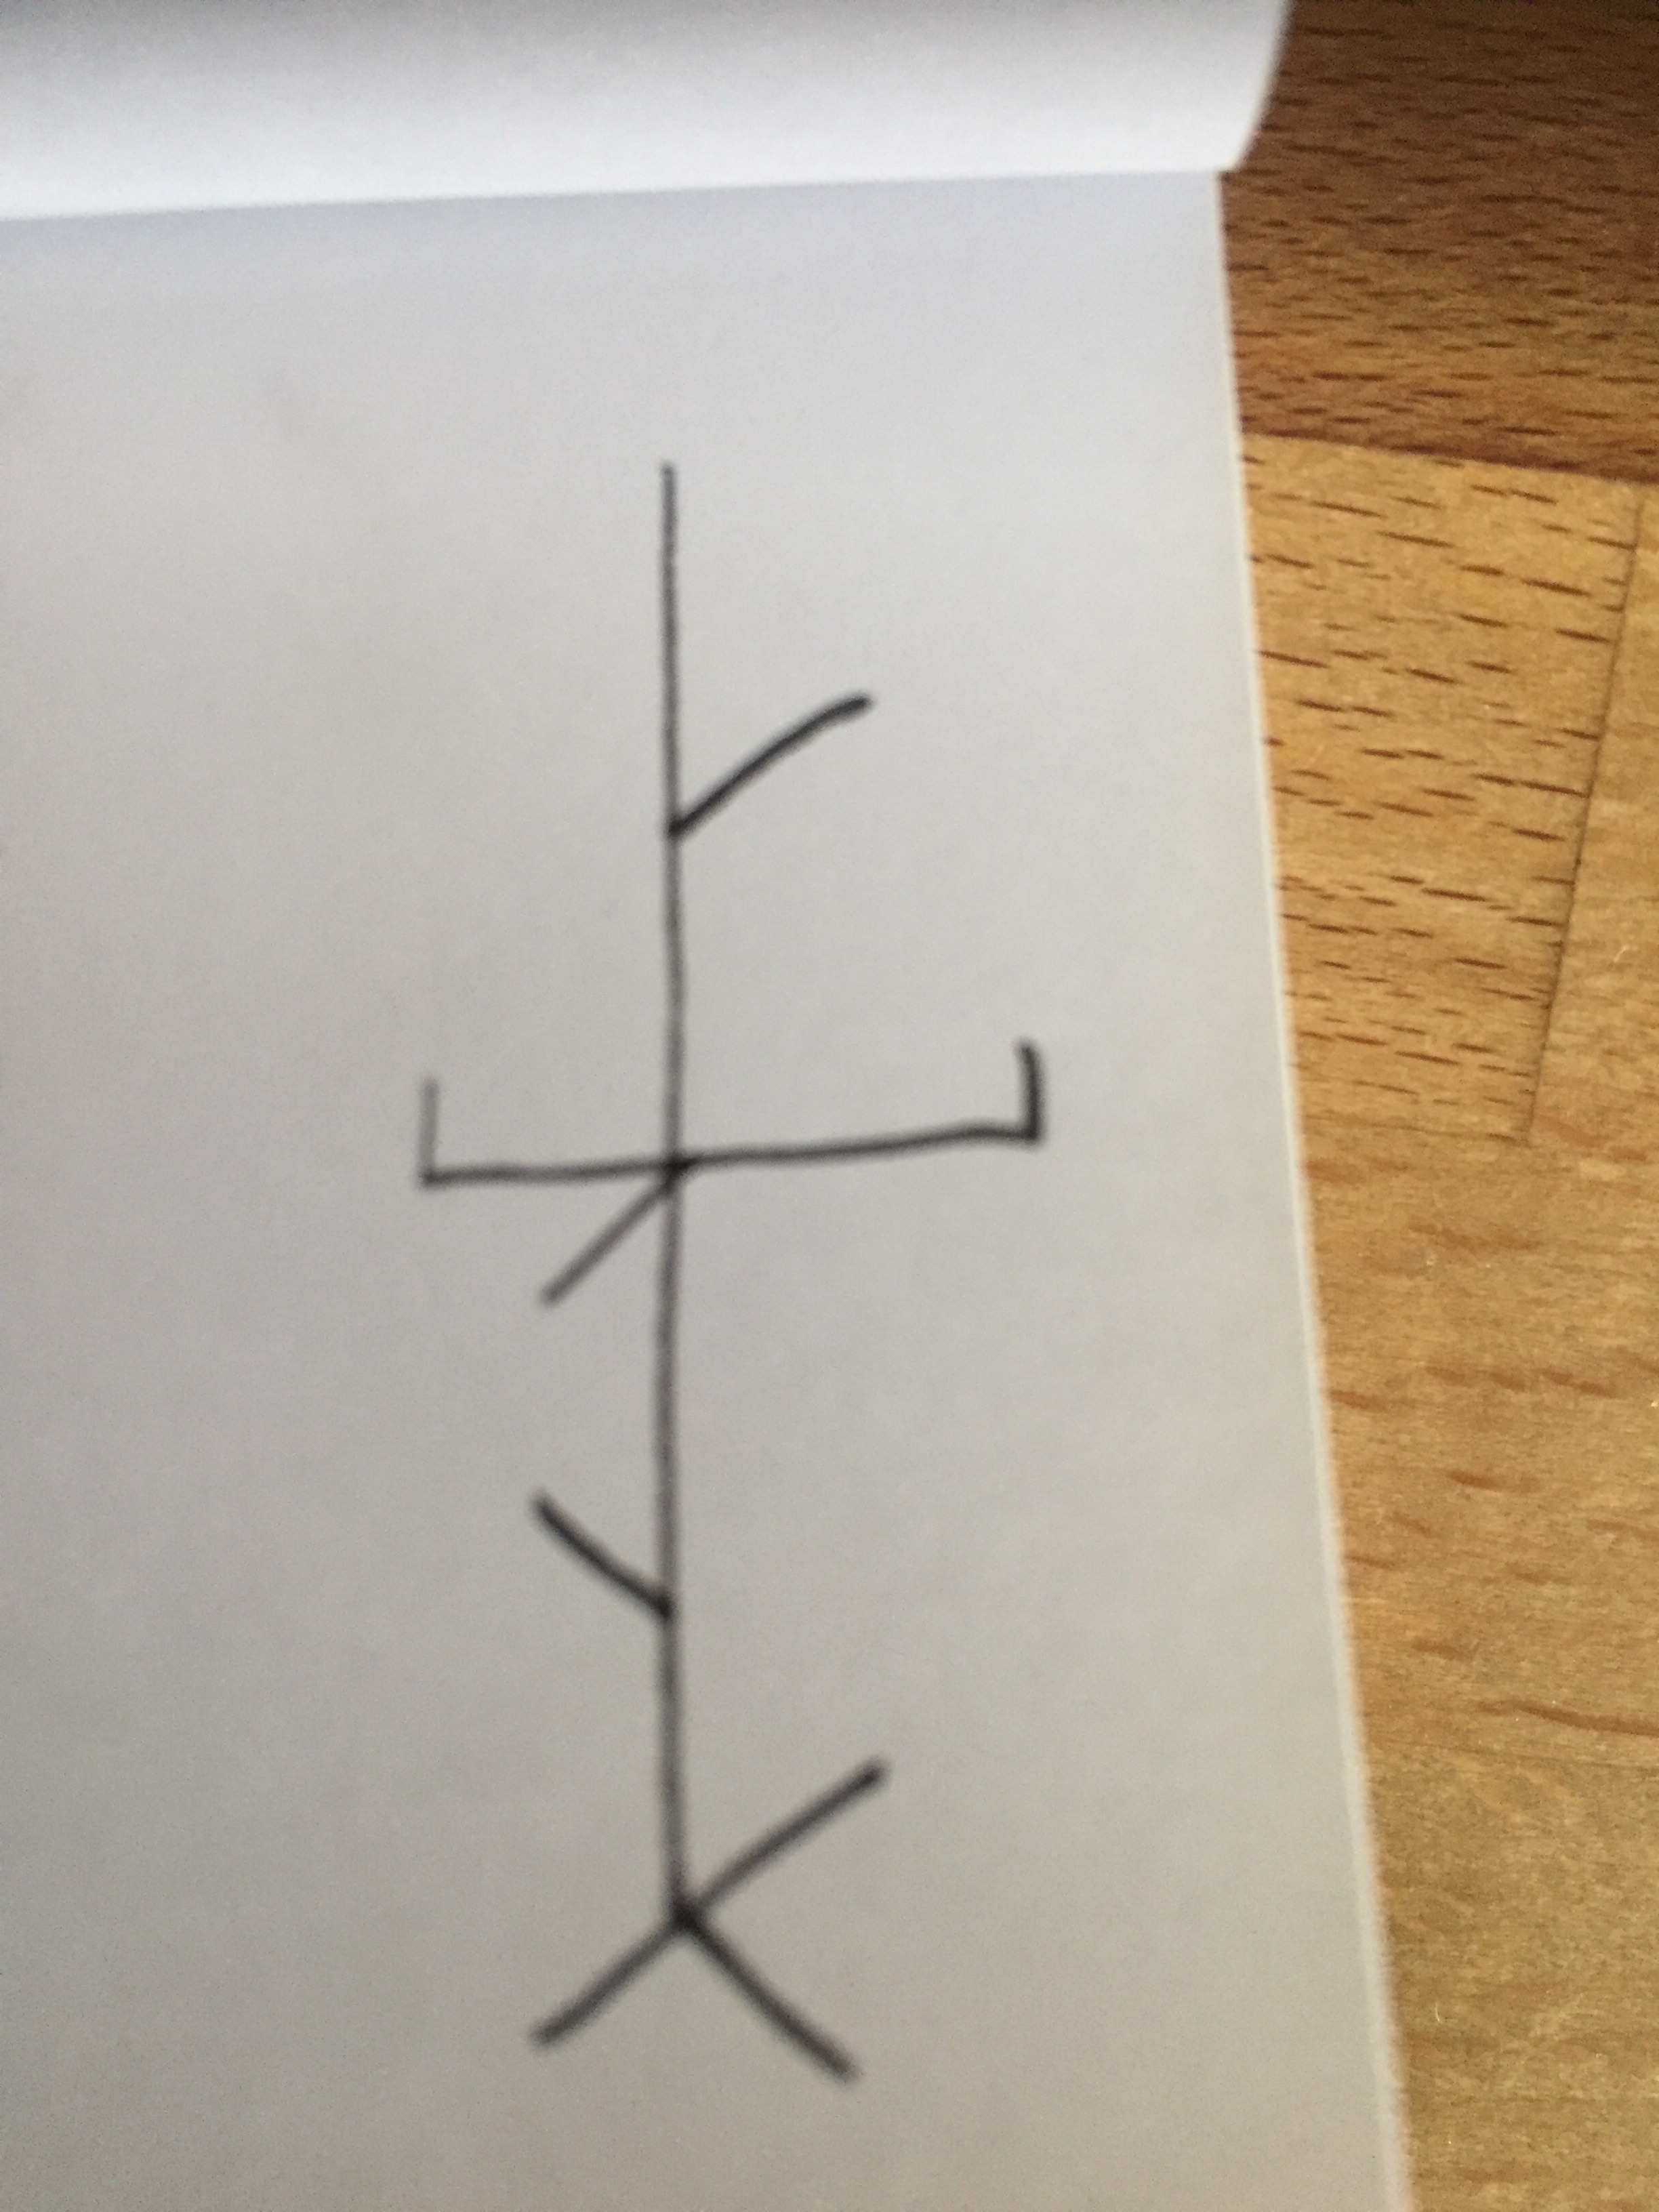Bar: (523, 462, 890, 2087)
Barcode: (413, 460, 1047, 2088)
End: (688, 1036, 1044, 1172)
Start: (413, 1073, 640, 1195)
